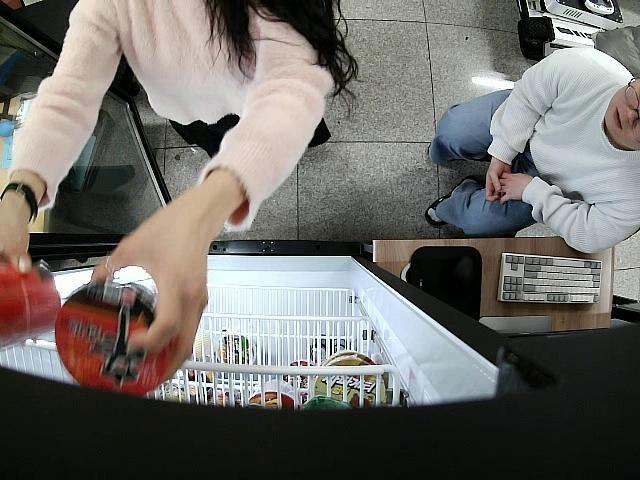02_shinRamen_S: (55, 278, 178, 392), (0, 251, 62, 352)
